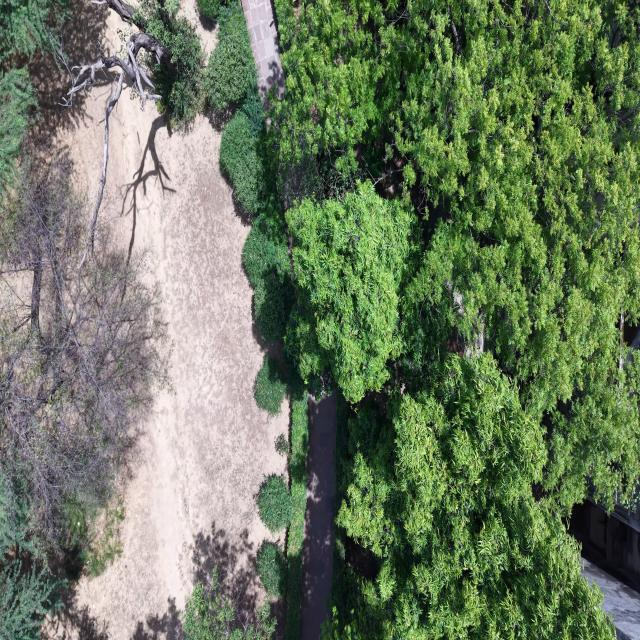DRY_AREA: (56, 95, 288, 639), (301, 393, 336, 639), (242, 0, 284, 97)
VEGETATION_TREE: (136, 0, 639, 639), (268, 0, 639, 638), (272, 0, 639, 509), (0, 0, 264, 638), (0, 2, 165, 639), (328, 307, 612, 638), (0, 68, 164, 638), (0, 143, 166, 638), (331, 355, 612, 638), (0, 147, 166, 548), (287, 144, 493, 401), (49, 0, 257, 250), (68, 0, 263, 214), (50, 0, 204, 254), (205, 4, 294, 342), (207, 6, 294, 342), (286, 183, 416, 402), (274, 0, 404, 170), (0, 313, 64, 639), (221, 99, 294, 342), (255, 354, 307, 638), (258, 358, 308, 639), (258, 359, 308, 639), (258, 360, 308, 639), (0, 0, 68, 196), (0, 468, 64, 639), (272, 344, 308, 639), (220, 80, 282, 239), (134, 0, 204, 129), (286, 324, 308, 639), (243, 208, 294, 342), (182, 568, 275, 639), (204, 2, 257, 111), (286, 382, 308, 639), (0, 558, 61, 639), (0, 0, 71, 65), (0, 68, 36, 191), (220, 110, 262, 215), (269, 137, 324, 210), (331, 520, 379, 603), (81, 497, 125, 576), (242, 216, 290, 286), (0, 471, 38, 554), (254, 269, 293, 342), (257, 475, 291, 532), (254, 357, 286, 414), (257, 542, 286, 598), (242, 85, 265, 137), (198, 0, 220, 21), (275, 434, 289, 459)
